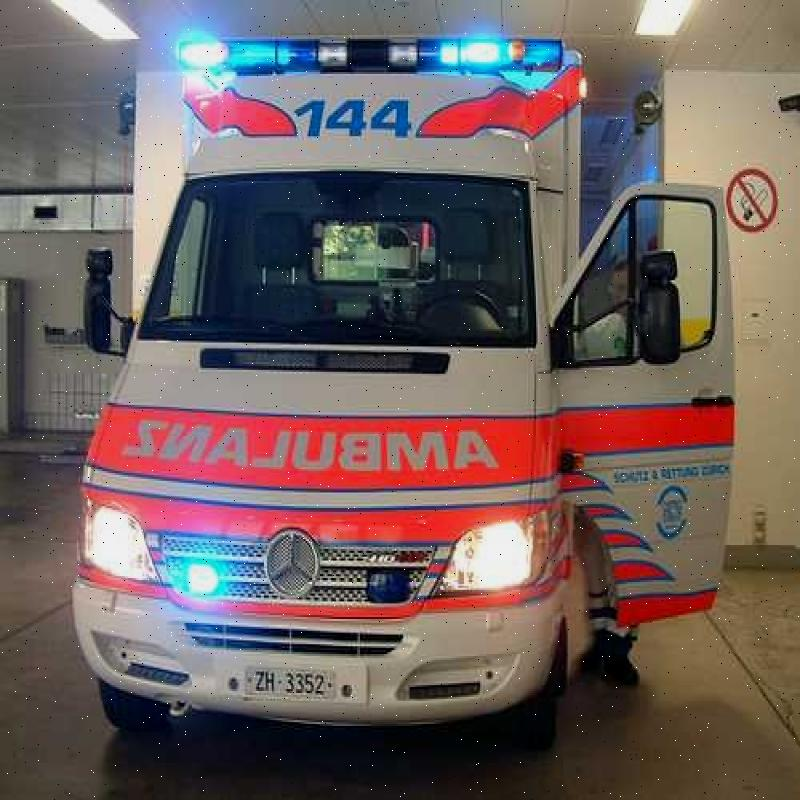AmbulanceSiren: (159, 4, 586, 103)
